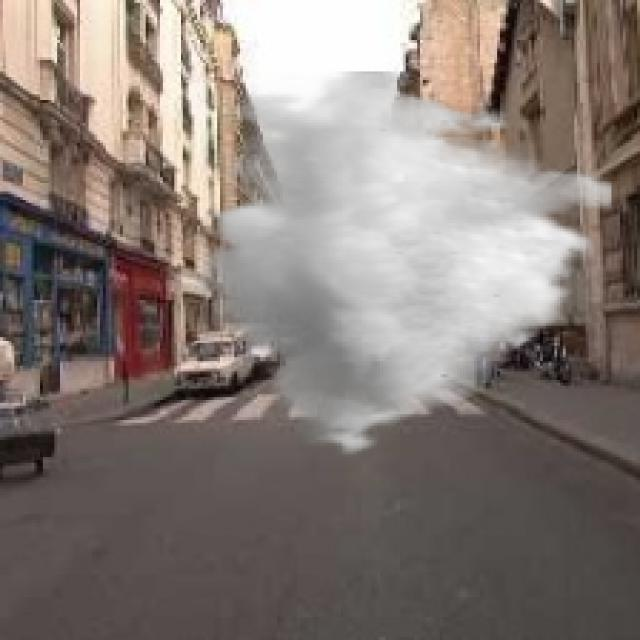smoke: (195, 71, 614, 463)
